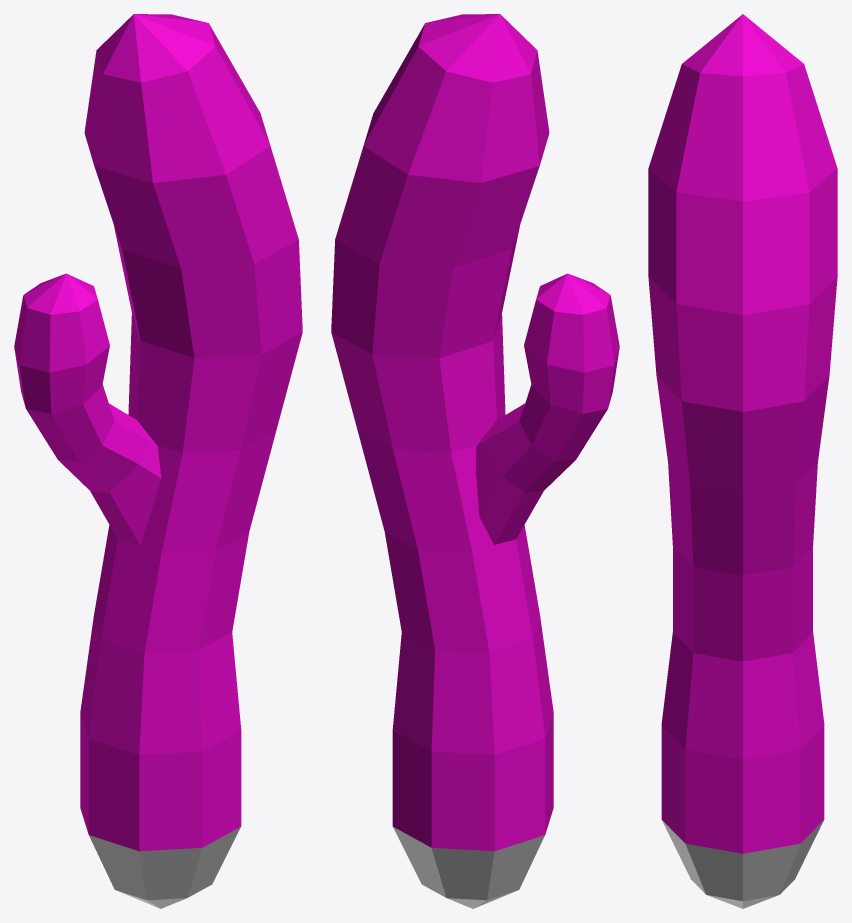
Rendered from Consolador_Prueba.fbx.
3 renders of one model, left to right at view 1: azimuth 30°, elevation 25°; view 2: azimuth 150°, elevation 25°; view 3: azimuth 270°, elevation 25°, orthographic. The views are drawn at different scales.
Visible parts, largest first — view 1: Cylinder002; view 2: Cylinder002; view 3: Cylinder002.
Boxes of the visible parts, x1=… form: Cylinder002: x1=14, y1=14, x2=302, y2=908; Cylinder002: x1=331, y1=14, x2=619, y2=908; Cylinder002: x1=648, y1=14, x2=837, y2=908.
Bounding box in the file's own units: 6.63 × 20.82 × 4.05.
